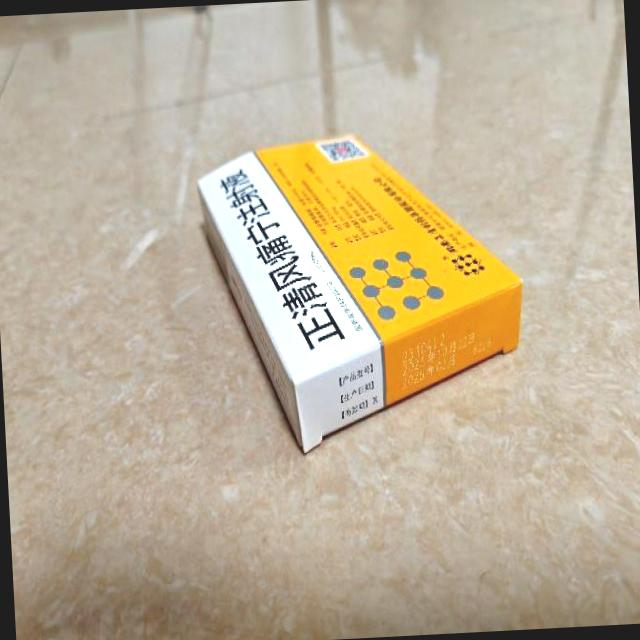box: (193, 126, 530, 460)
